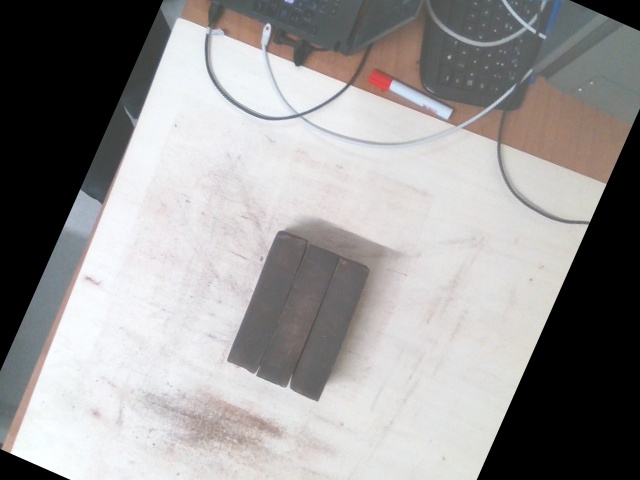brick-side: (228, 234, 307, 371), (260, 249, 339, 386), (291, 262, 370, 399)
